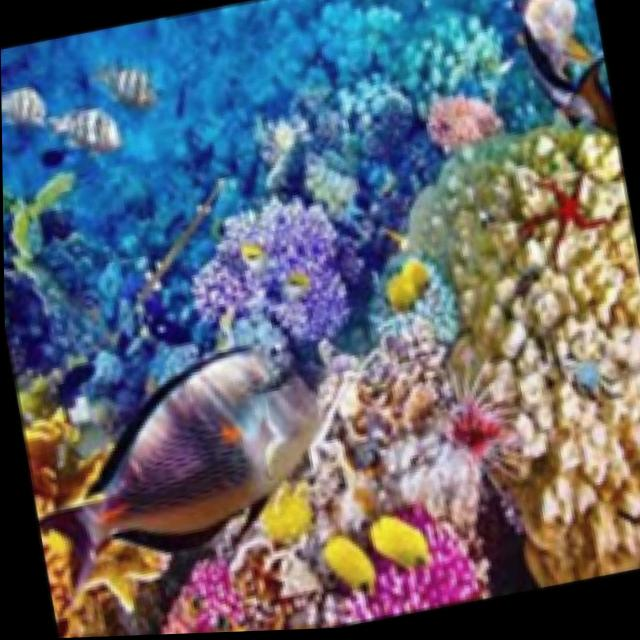Healthy Coral: (413, 118, 640, 603), (142, 160, 375, 371), (6, 338, 158, 640), (304, 463, 484, 631), (132, 544, 251, 636)
